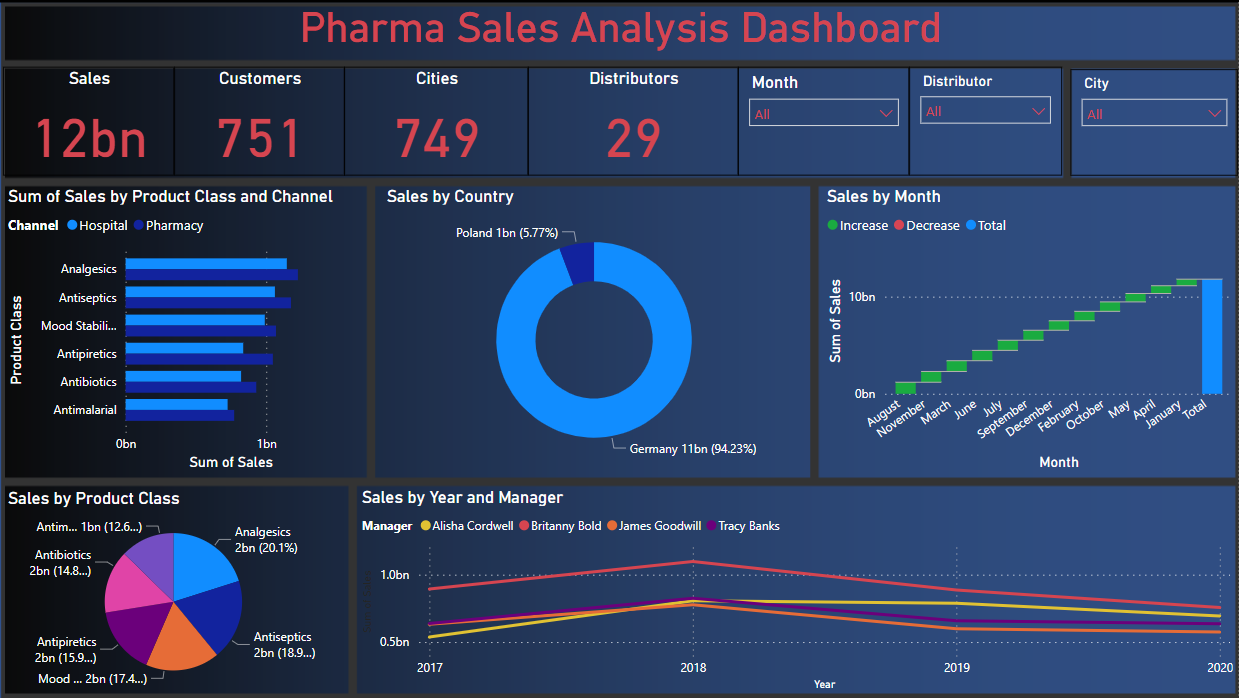

What the dashboard file says about the page in this screenshot:
{"tool":"powerbi","page":{"name":"Page 1","canvas":[1280,720],"ordinal":0},"visuals":[{"type":"pieChart","title":" Sales by Product Class","fields":{"Y":["Pharma_data.Sales"],"Category":["Pharma_data.Product Class"]},"box":[45,495,341.2,208.8],"z":0},{"type":"lineChart","title":"Sales by Year and Manager","fields":{"Category":["Pharma_data.Year"],"Y":["Pharma_data.Sales"],"Series":["Pharma_data.Manager"]},"box":[398.8,493.8,881.2,208.8],"z":1000},{"type":"clusteredBarChart","fields":{"Y":["Pharma_data.Sales"],"Category":["Pharma_data.Product Class"],"Series":["Pharma_data.Channel"]},"box":[45,192.5,353.8,290],"z":2000},{"type":"donutChart","title":"Sales by Country","fields":{"Category":["Pharma_data.Country"],"Y":["Pharma_data.Sales"]},"box":[423.8,192.5,425,290],"z":3000},{"type":"waterfallChart","title":" Sales by Month","fields":{"Category":["Pharma_data.Month"],"Y":["Pharma_data.Sales"]},"box":[863.8,192.5,416.2,290],"z":4000},{"type":"card","title":"Sales","fields":{"Values":["Pharma_data.Sales"]},"box":[45,73.8,171.2,108.8],"z":5000},{"type":"card","title":"Customers","fields":{"Values":["Pharma_data.Customer Name"]},"box":[216.2,73.8,170,108.8],"z":6000},{"type":"card","title":"Cities","fields":{"Values":["Pharma_data.City"]},"box":[386.2,73.8,183.8,108.8],"z":7000},{"type":"card","title":"Distributors","fields":{"Values":["Pharma_data.Distributor"]},"box":[570,73.8,210,108.8],"z":8000},{"type":"textbox","title":"Pharma Sales Analysis Dashboard","box":[45,10,1235,51.2],"z":9000},{"type":"slicer","fields":{"Values":["Pharma_data.Month"]},"box":[780,73.8,171.2,108.8],"z":10000},{"type":"slicer","fields":{"Values":["Pharma_data.Distributor"]},"box":[951.2,73.8,152.5,108.8],"z":11000},{"type":"slicer","fields":{"Values":["Pharma_data.City"]},"box":[1112.5,76.2,167.5,106.2],"z":12000}]}

Visuals, with their boxes in screenshot pixels (x1, y1, x2, y2), scaled from the page's 1280x720 canvas onto the 1239x698 screenshot:
" Sales by Product Class" pieChart: left=44, top=480, right=374, bottom=682
"Sales by Year and Manager" lineChart: left=386, top=479, right=1238, bottom=681
clusteredBarChart - Pharma_data.Sales x Pharma_data.Product Class: left=44, top=187, right=386, bottom=468
"Sales by Country" donutChart: left=410, top=187, right=822, bottom=468
" Sales by Month" waterfallChart: left=836, top=187, right=1238, bottom=468
"Sales" card: left=44, top=72, right=209, bottom=177
"Customers" card: left=209, top=72, right=374, bottom=177
"Cities" card: left=374, top=72, right=552, bottom=177
"Distributors" card: left=552, top=72, right=755, bottom=177
"Pharma Sales Analysis Dashboard" textbox: left=44, top=10, right=1238, bottom=59
slicer - Pharma_data.Month: left=755, top=72, right=921, bottom=177
slicer - Pharma_data.Distributor: left=921, top=72, right=1068, bottom=177
slicer - Pharma_data.City: left=1077, top=74, right=1238, bottom=177
